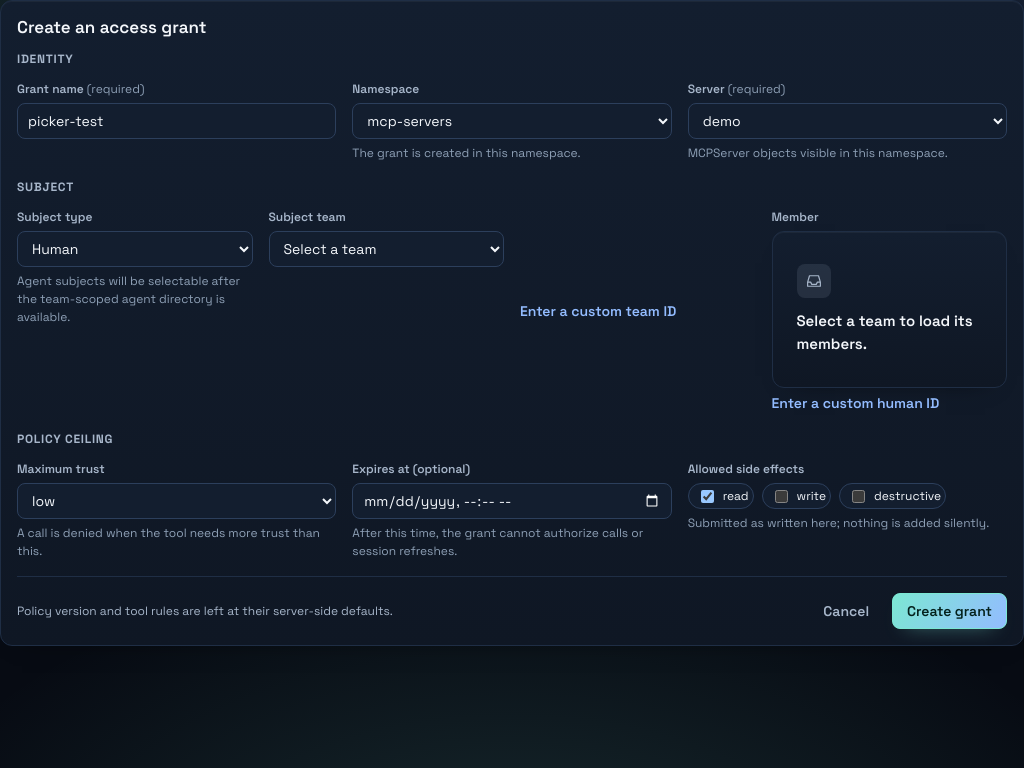
Test: access subject pickers › clears the previous member when the team changes
Select "Acme (acme)" in the dropdown with test id "grant-team-select". click: (386, 249)
box: [268, 231, 504, 267]
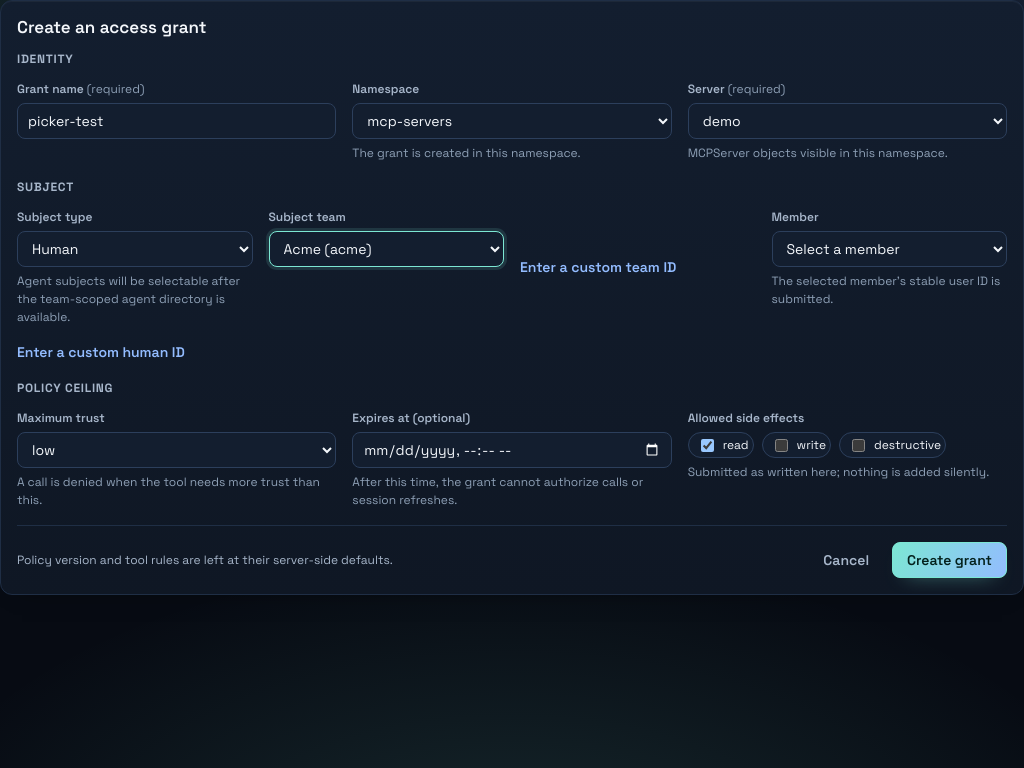
Select "alice@example.com (user-alice)" in the dropdown with test id "grant-human-select". click: (889, 249)
box: [772, 231, 1007, 267]
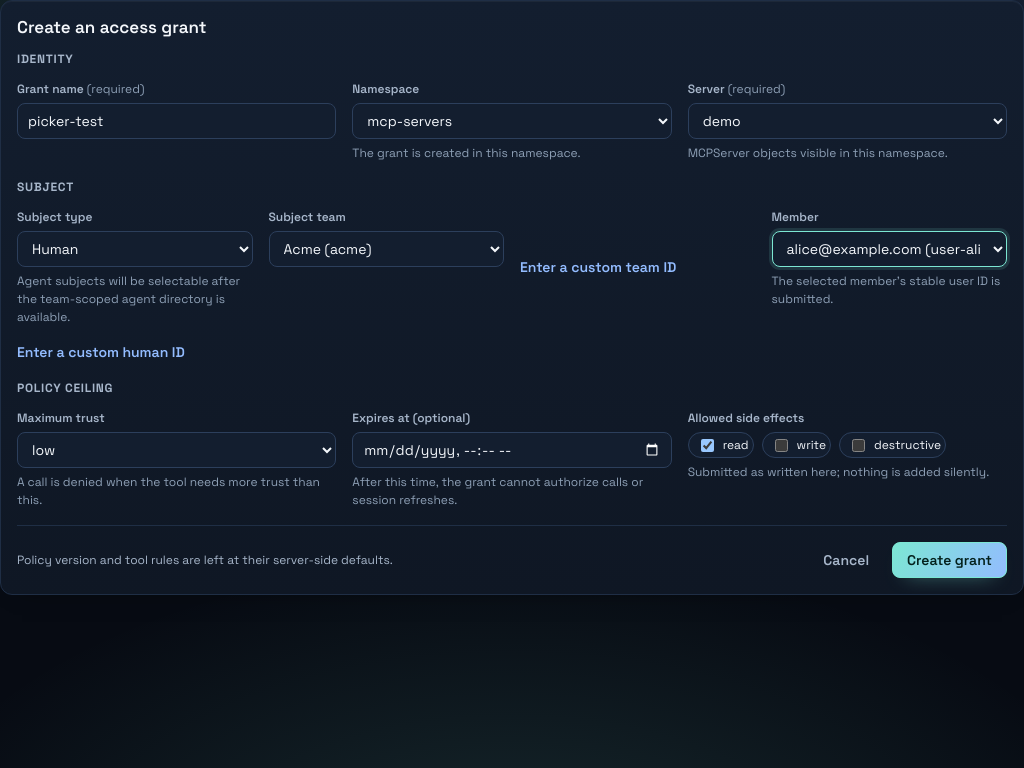
Select "Globex (globex)" in the dropdown with test id "grant-team-select". click: (386, 249)
box: [268, 231, 504, 267]
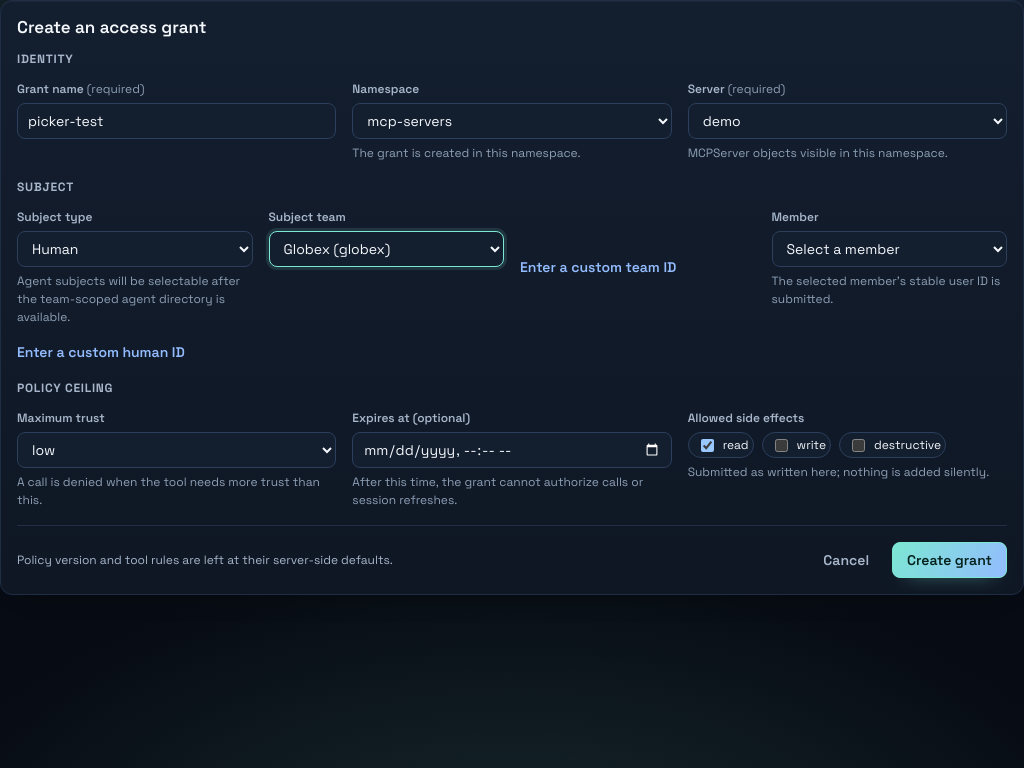
Expected: the option "alice@example.com" is not shown
Expected: the dropdown with test id "grant-human-select" shows "Select a member", [772, 231, 1007, 267]
